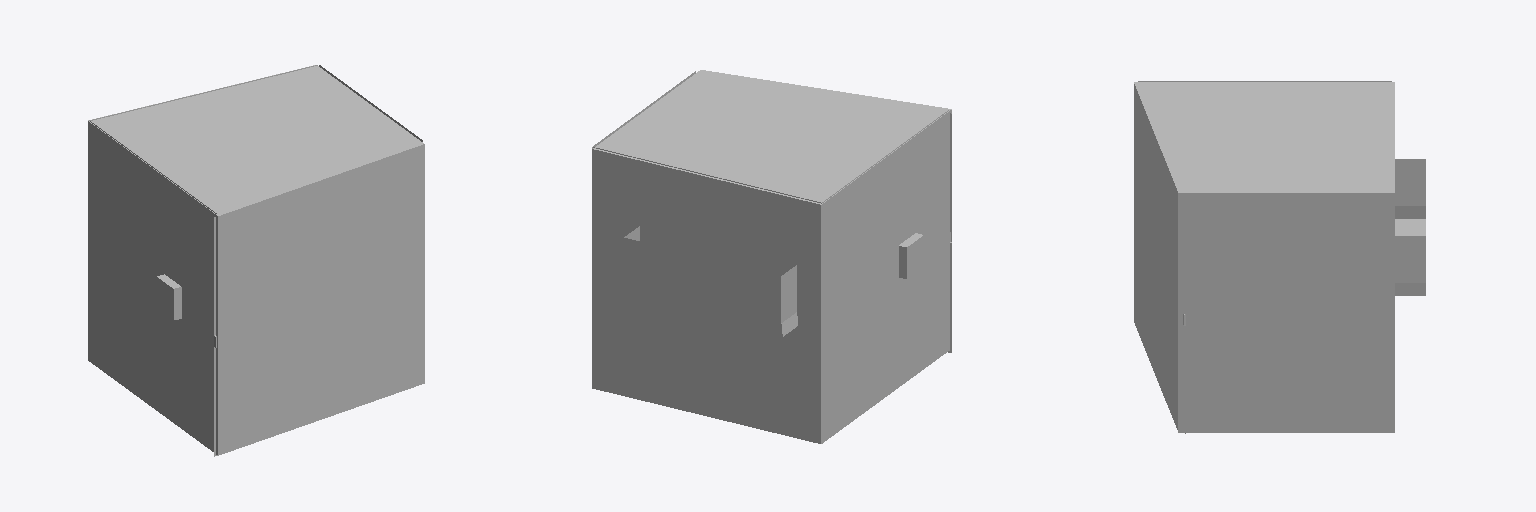
File: Building3.obj
The picture shows the model from 3 angles: view 1: azimuth 30°, elevation 25°; view 2: azimuth 150°, elevation 25°; view 3: azimuth 270°, elevation 25°; orthographic projection.
Visible parts, largest first — view 1: Building3_-col, TCom_BuildingsDerelict0073_S; view 2: Building3_-col, Building3.012, TCom_BuildingsDerelict0073_S; view 3: Building3_-col, TCom_BuildingsDerelict0091_S, Building3.012.
Part boxes in pixels (left/top/right/bottom): Building3_-col: left=88, top=65, right=424, bottom=455; TCom_BuildingsDerelict0073_S: left=90, top=121, right=216, bottom=320; Building3_-col: left=592, top=70, right=951, bottom=443; Building3.012: left=593, top=147, right=821, bottom=336; TCom_BuildingsDerelict0073_S: left=822, top=110, right=948, bottom=278; Building3_-col: left=1134, top=82, right=1394, bottom=432; TCom_BuildingsDerelict0091_S: left=1186, top=193, right=1392, bottom=431; Building3.012: left=1395, top=159, right=1425, bottom=295.
Size of the model in its own units: 5.21 by 5.07 by 5.54.